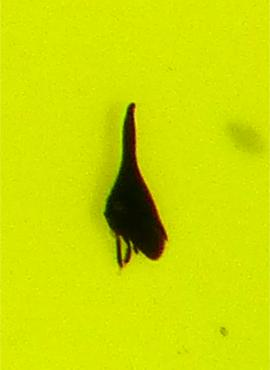Hemiptera: (100, 100, 170, 270)
